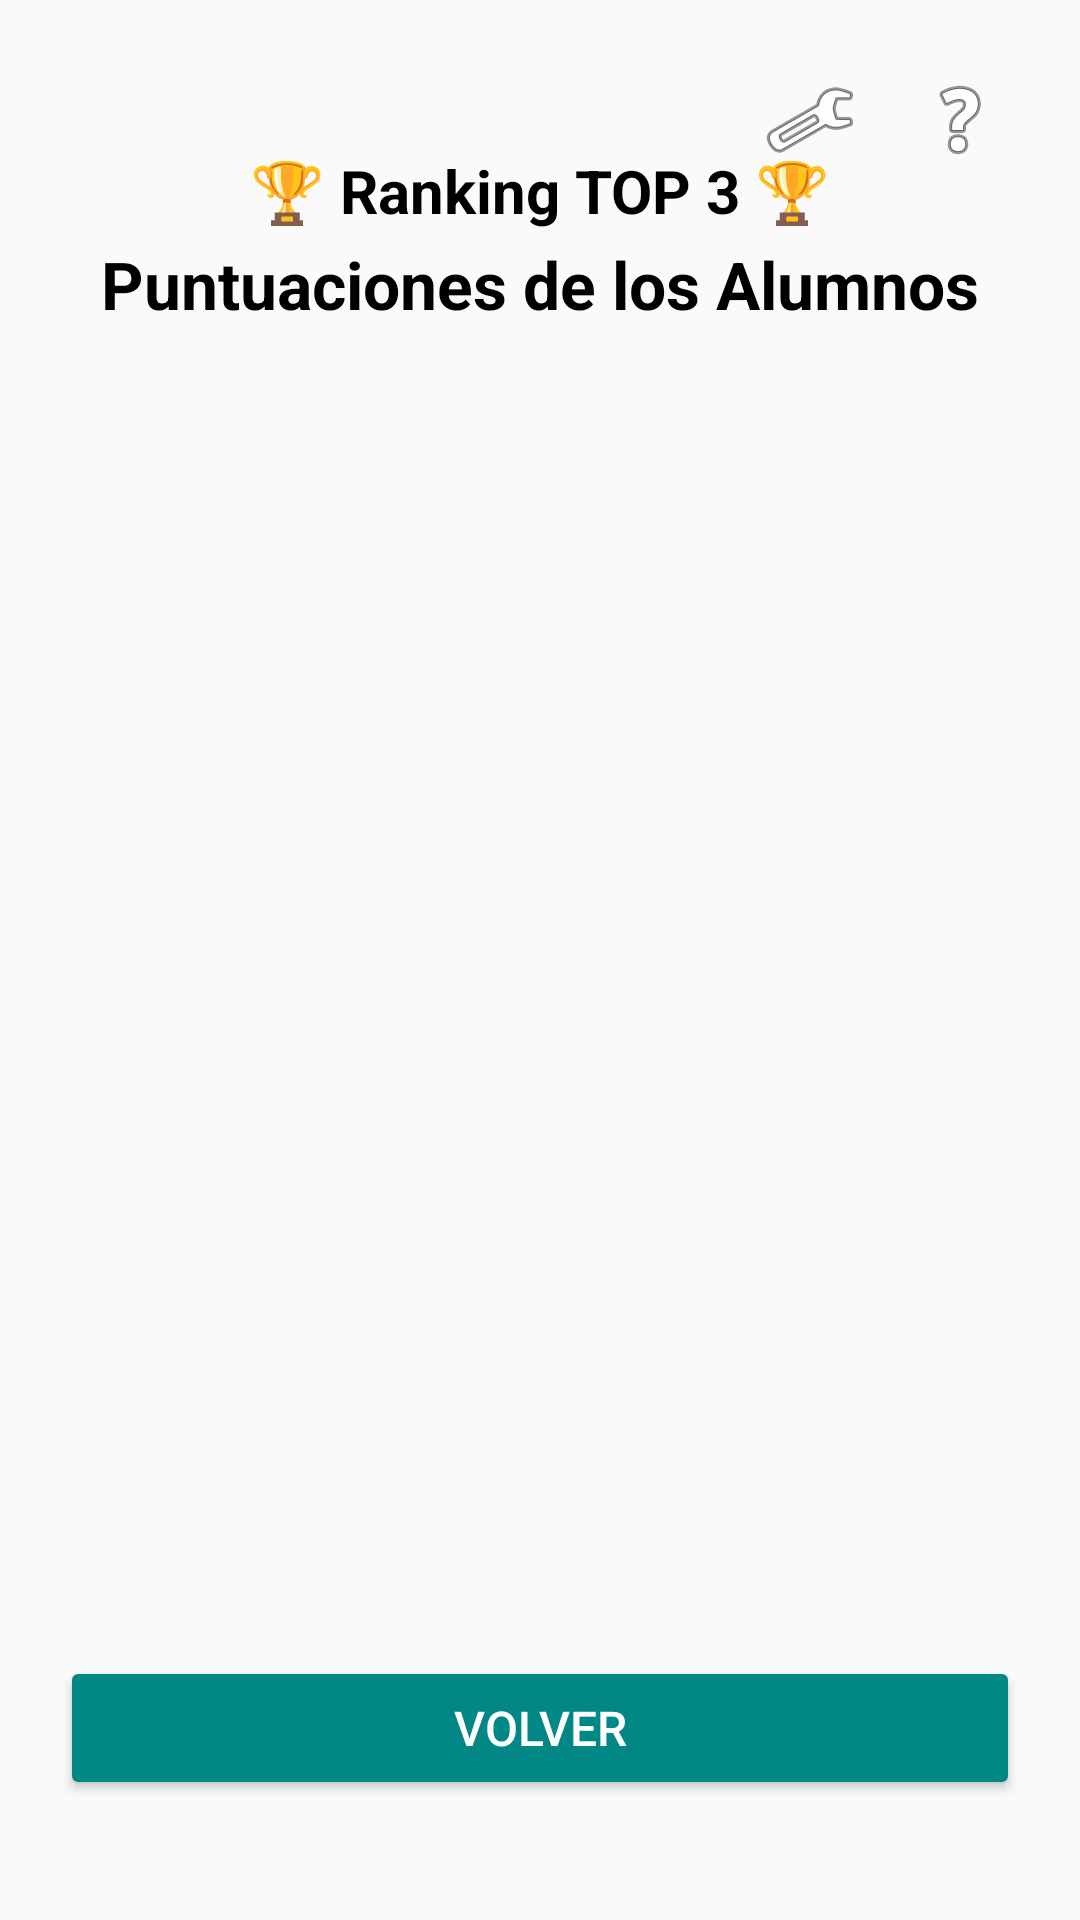

Screen size 1080×1920. Icon name, then its box in pixels as (x1, y1, x2, y2):
Botón de ayuda: (939, 86, 981, 154)
